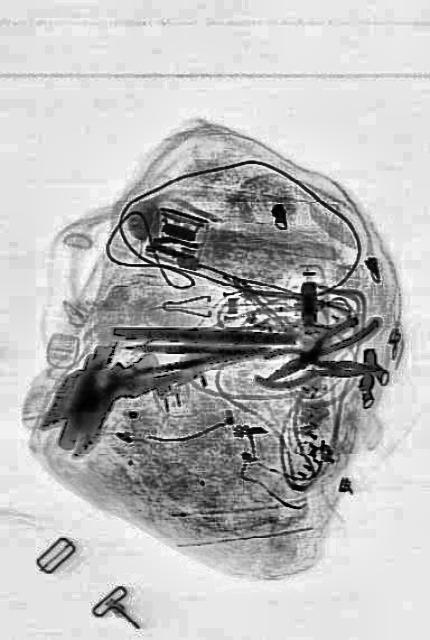Pliers: (258, 300, 380, 394), (253, 345, 377, 389)
